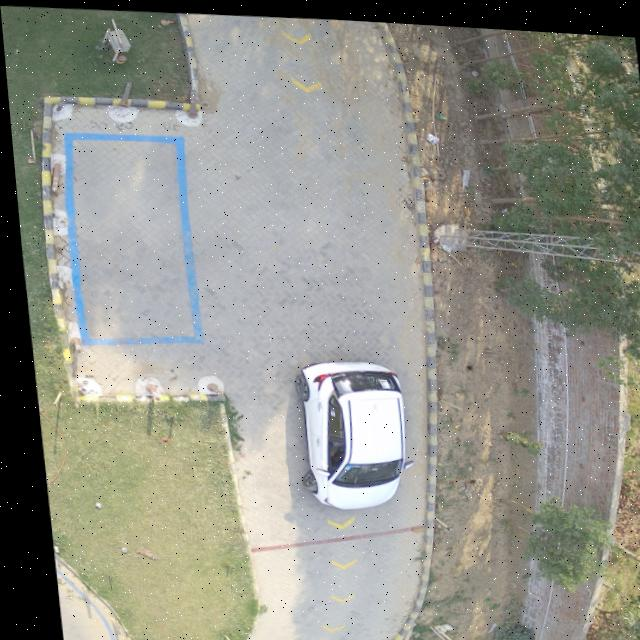car: (290, 358, 398, 503)
